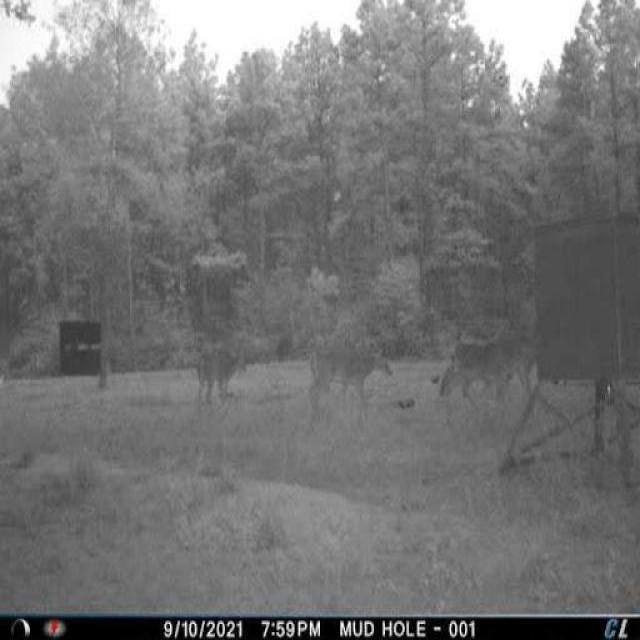deer: (436, 325, 545, 418), (297, 339, 403, 417), (198, 333, 252, 412)
